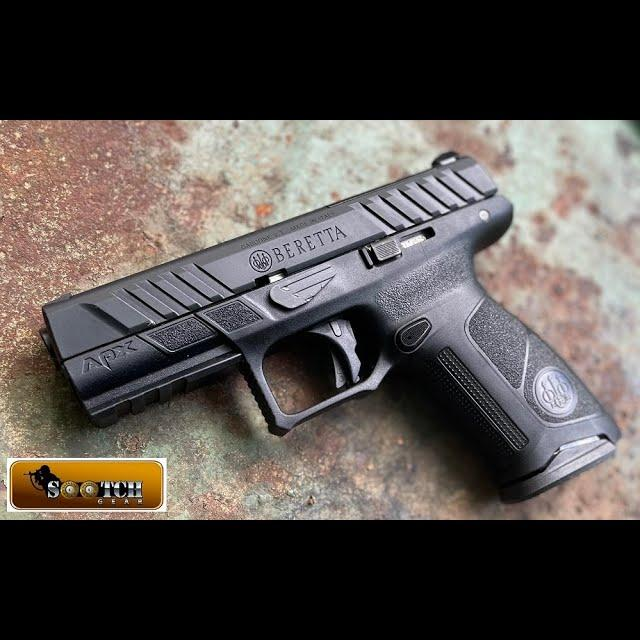handgun: (31, 145, 630, 508)
